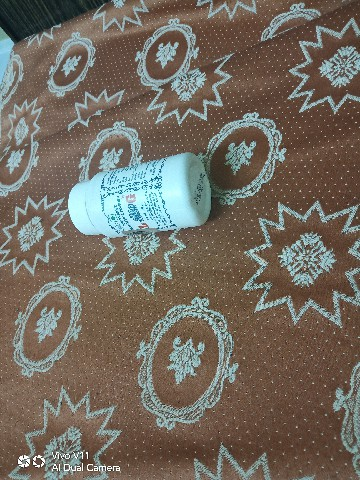lgasafoetidapowder large: (45, 135, 215, 269)
